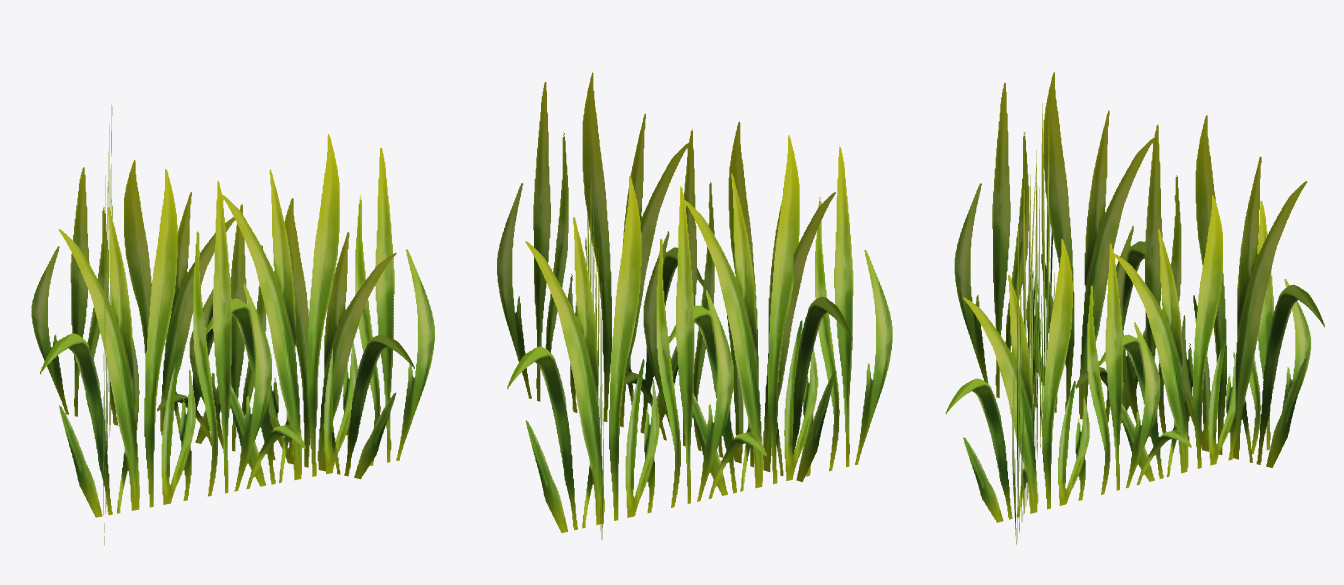
File: Pastito_01.fbx
The picture shows the model from 3 angles, left to right: view 1: azimuth 30°, elevation 25°; view 2: azimuth 150°, elevation 25°; view 3: azimuth 270°, elevation 25°; orthographic projection.
Parts seen in each view (by area): view 1: Pastito_01; view 2: Pastito_01; view 3: Pastito_01.
Part boxes in pixels (x1,y1,x2,y2): Pastito_01: (31,105,434,545); Pastito_01: (497,72,892,539); Pastito_01: (945,72,1324,544).
Size of the model in its own units: 115 by 101 by 98.74.
